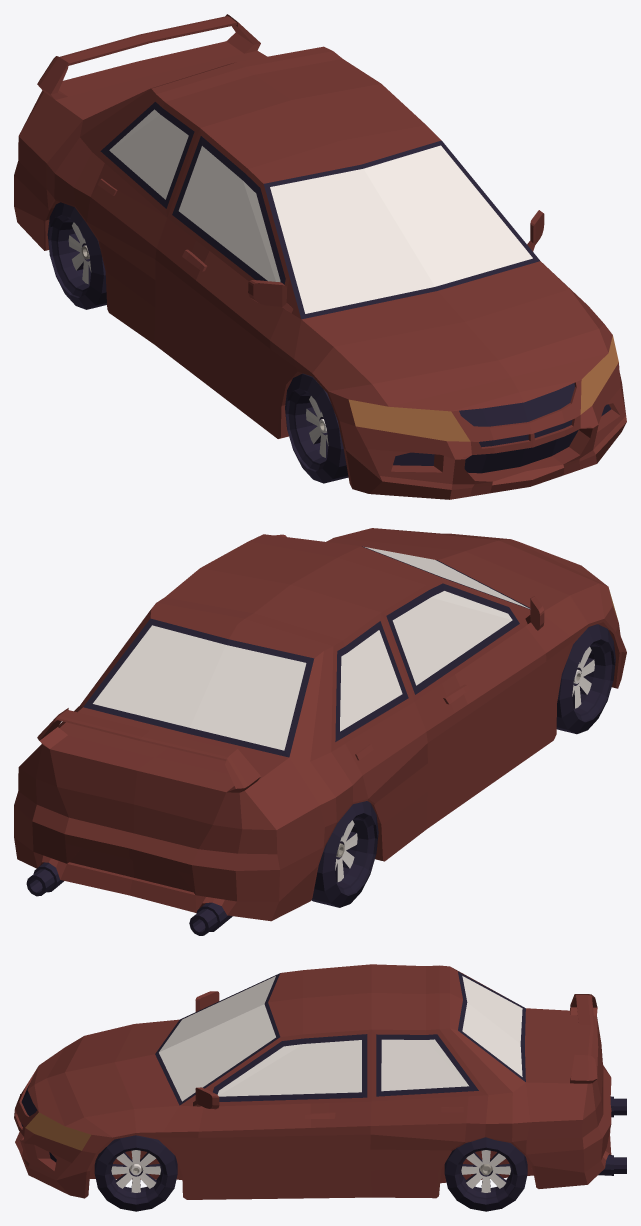
Rendered from car 7.fbx.
3 views of the same model, one above another, from view 1: azimuth 30°, elevation 25°; view 2: azimuth 150°, elevation 25°; view 3: azimuth 270°, elevation 25° (orthographic). The views are drawn at different scales.
Parts seen in each view (by area): view 1: car 14; view 2: car 14; view 3: car 14.
Part boxes in pixels (x1=…): car 14: x1=14, y1=14, x2=626, y2=499; car 14: x1=14, y1=528, x2=626, y2=935; car 14: x1=14, y1=964, x2=626, y2=1211.
Size of the model in its own units: 248 by 186 by 613.
